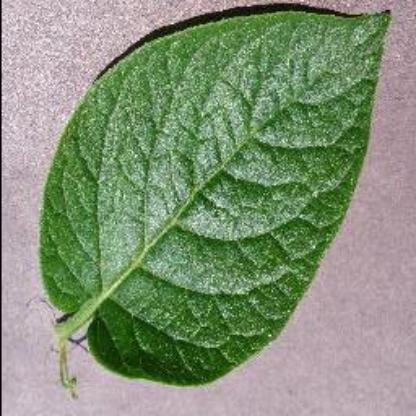Healthy-plant: (41, 14, 393, 364)
